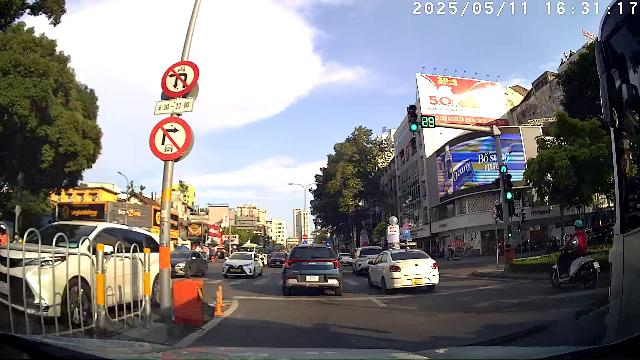103b-cam-oto-re-phai: (149, 117, 191, 161)
